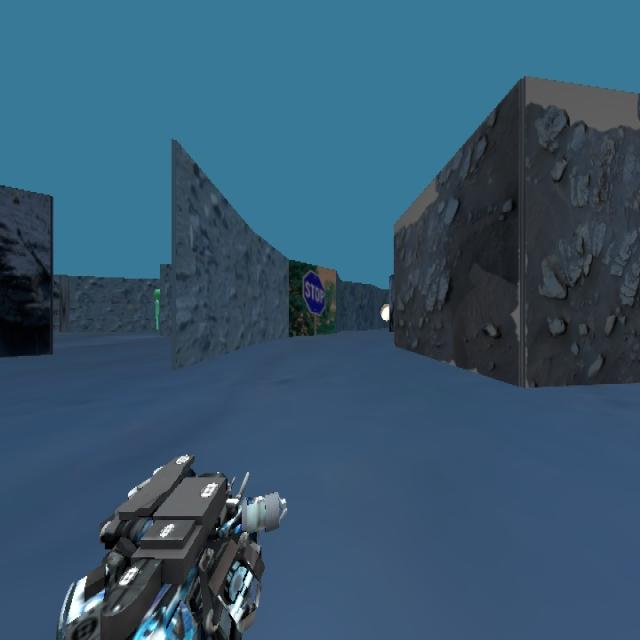Alien: (146, 284, 168, 337)
Circle: (369, 282, 414, 337)
Stop_Sign: (302, 269, 326, 316)
